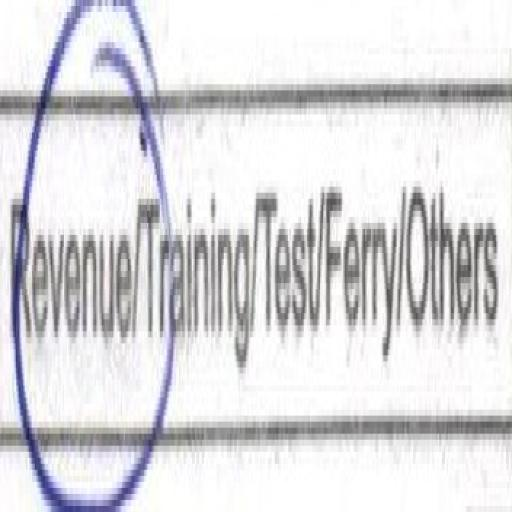check: (8, 38, 144, 512)
